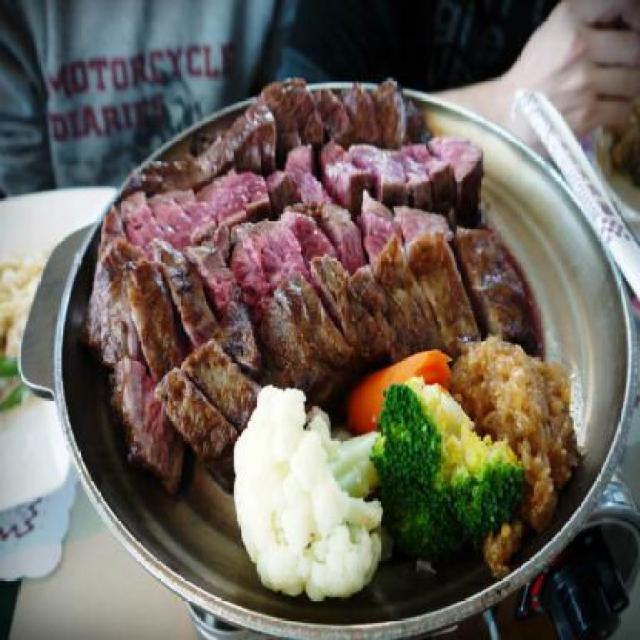Broccoli: (370, 378, 526, 556)
